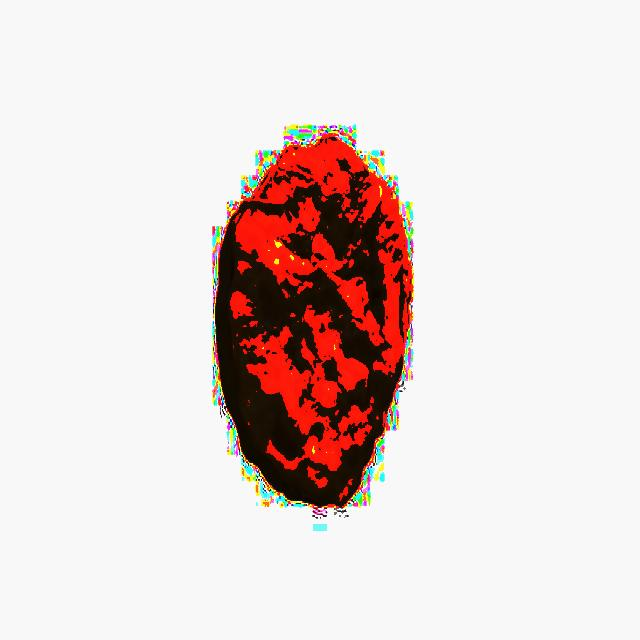chicken_nuggets: (210, 117, 415, 544)
